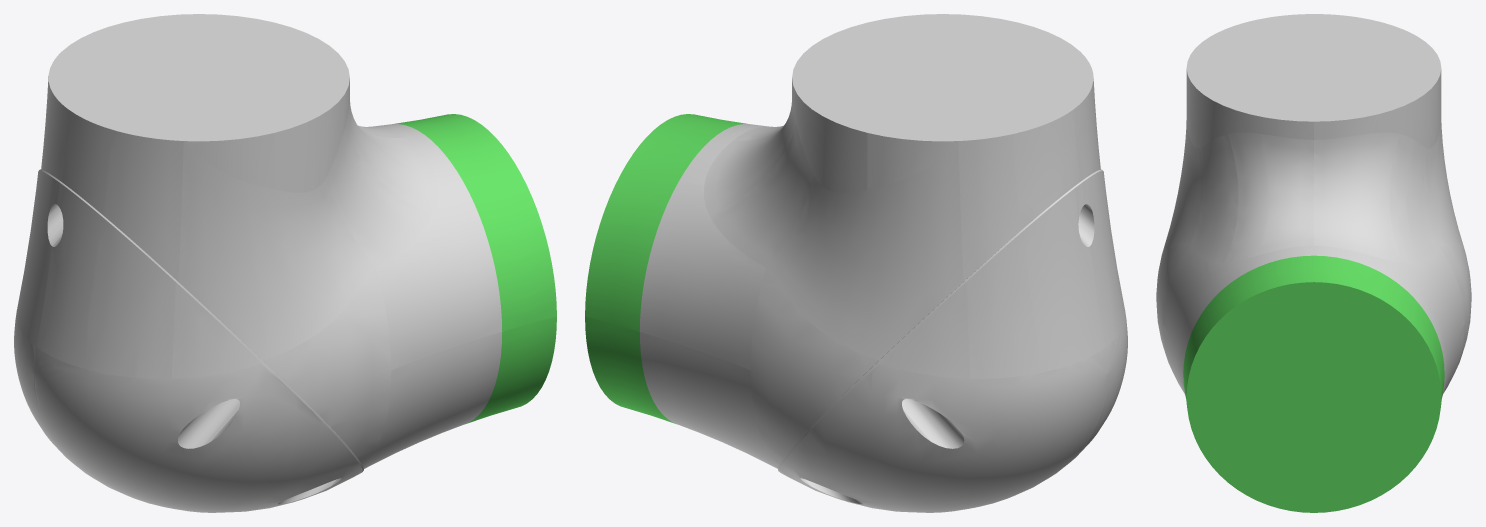
3 renders of one model, left to right at view 1: azimuth 30°, elevation 25°; view 2: azimuth 150°, elevation 25°; view 3: azimuth 270°, elevation 25°, orthographic. The views are drawn at different scales.
Parts seen in each view (by area): view 1: Mesh_0.013; view 2: Mesh_0.013; view 3: Mesh_0.013.
Boxes of the visible parts, x1,y1,x2,y2 form: Mesh_0.013: (14, 14, 556, 512); Mesh_0.013: (585, 14, 1127, 512); Mesh_0.013: (1156, 14, 1471, 512).
Bounding box in the file's own units: 0.1576 × 0.143 × 0.114.
